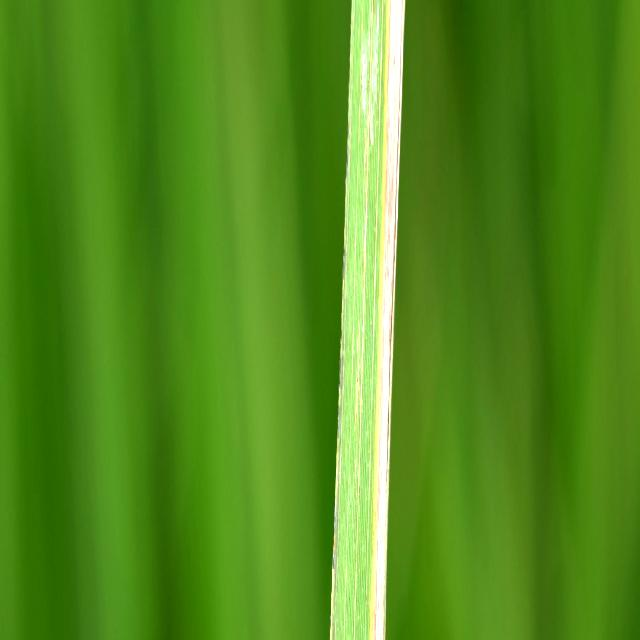BLB: (371, 0, 405, 640)
